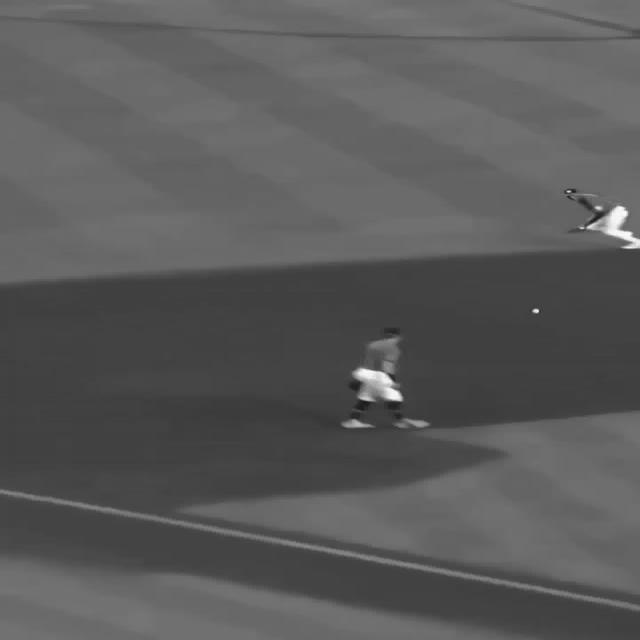baseball: (530, 308, 540, 314)
shoe: (392, 418, 429, 429), (339, 418, 375, 429), (619, 241, 639, 249)
